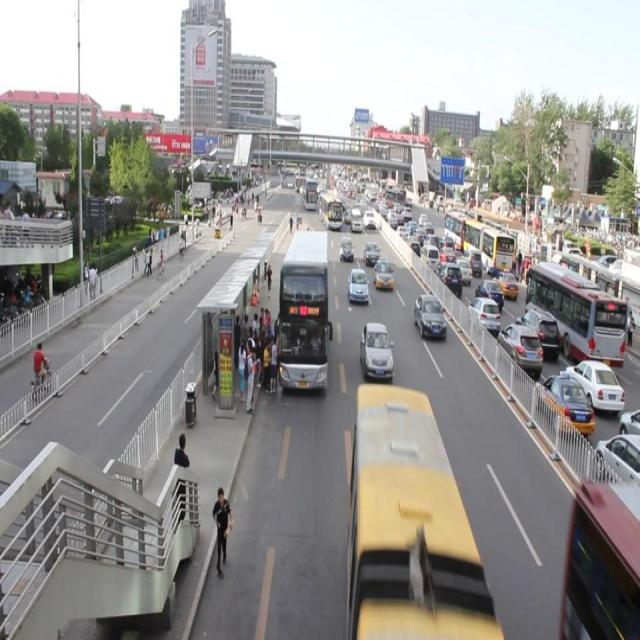car: (358, 320, 391, 378), (414, 296, 446, 338), (347, 267, 368, 302), (372, 256, 392, 288), (338, 237, 354, 262), (363, 242, 378, 262), (362, 208, 372, 228), (342, 207, 350, 223)
truck: (350, 208, 361, 231)
van: (346, 385, 500, 640), (280, 233, 328, 390), (319, 194, 340, 229)
